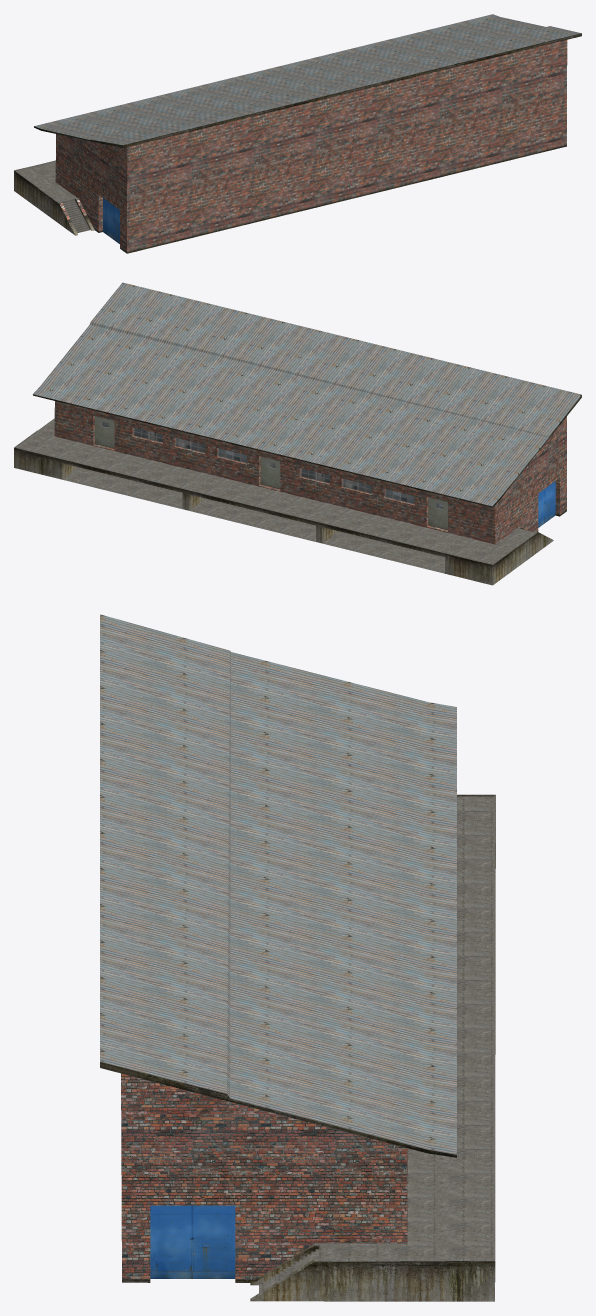
Rendered from building_10_lod1.dae.
3 renders of one model, top to bottom at view 1: azimuth 30°, elevation 25°; view 2: azimuth 150°, elevation 25°; view 3: azimuth 270°, elevation 25°, orthographic. The views are drawn at different scales.
Visible parts, largest first — view 1: Mesh_Object; view 2: Mesh_Object; view 3: Mesh_Object.
Boxes of the visible parts, x1=… form: Mesh_Object: x1=14, y1=14, x2=581, y2=253; Mesh_Object: x1=14, y1=282, x2=581, y2=585; Mesh_Object: x1=100, y1=614, x2=495, y2=1301.
Bounding box in the file's own units: 38.57 × 8.92 × 13.83.
